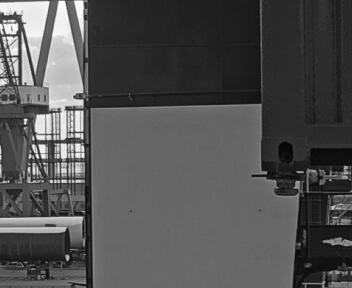twist_lock_1: (152, 169, 245, 208)
